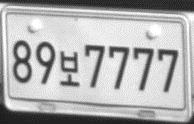7: (83, 43, 106, 89), (156, 48, 179, 93), (132, 47, 155, 90), (108, 45, 130, 89)
8: (11, 40, 32, 82)
9: (35, 41, 56, 83)
보: (57, 51, 81, 87)
